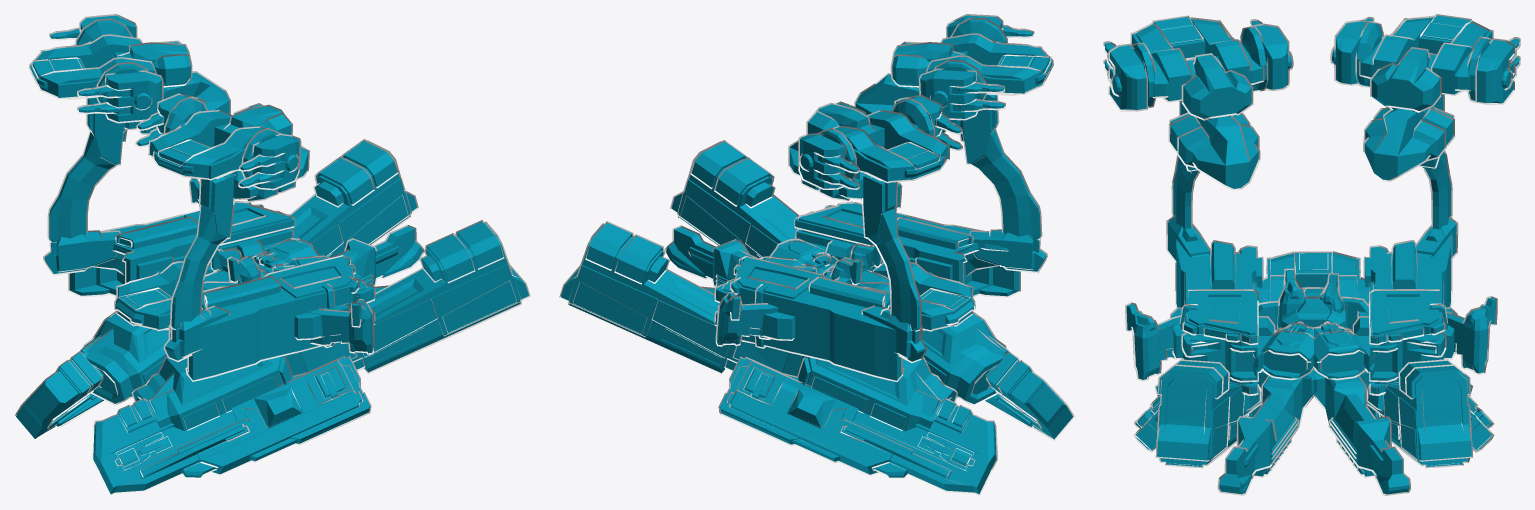
File: ship1_blue.glb
3 renders of one model, left to right at view 1: azimuth 30°, elevation 25°; view 2: azimuth 150°, elevation 25°; view 3: azimuth 270°, elevation 25°, orthographic. The views are drawn at different scales.
Parts seen in each view (by area): view 1: ME_ship_IndexedFaceSet, ME_ship_IndexedFaceSet.002, ME_ship_IndexedFaceSet.001; view 2: ME_ship_IndexedFaceSet, ME_ship_IndexedFaceSet.002, ME_ship_IndexedFaceSet.001; view 3: ME_ship_IndexedFaceSet, ME_ship_IndexedFaceSet.001, ME_ship_IndexedFaceSet.002.
Boxes of the visible parts, x1,y1,x2,y2 form: ME_ship_IndexedFaceSet: [14, 139, 530, 495]; ME_ship_IndexedFaceSet.002: [29, 14, 260, 283]; ME_ship_IndexedFaceSet.001: [135, 93, 374, 362]; ME_ship_IndexedFaceSet: [559, 140, 1074, 495]; ME_ship_IndexedFaceSet.002: [715, 94, 962, 363]; ME_ship_IndexedFaceSet.001: [830, 14, 1053, 285]; ME_ship_IndexedFaceSet: [1133, 233, 1494, 495]; ME_ship_IndexedFaceSet.001: [1103, 15, 1344, 381]; ME_ship_IndexedFaceSet.002: [1277, 14, 1520, 374].
Size of the model in its own units: 560 by 482 by 445.
